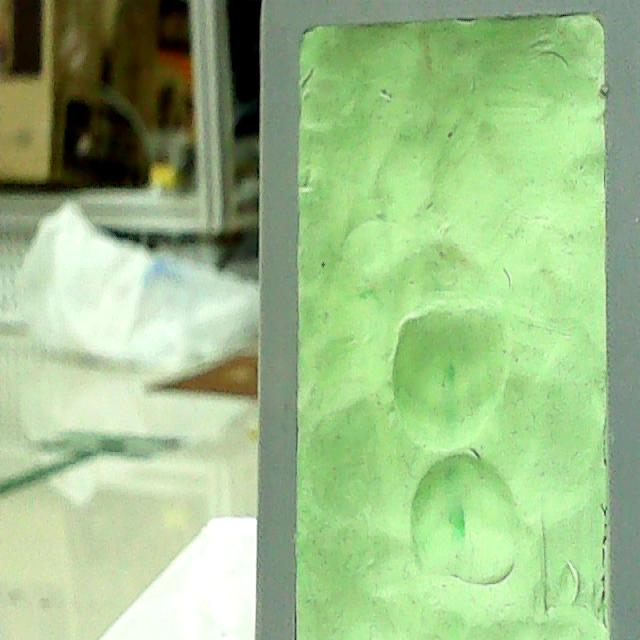block: (249, 0, 640, 633)
